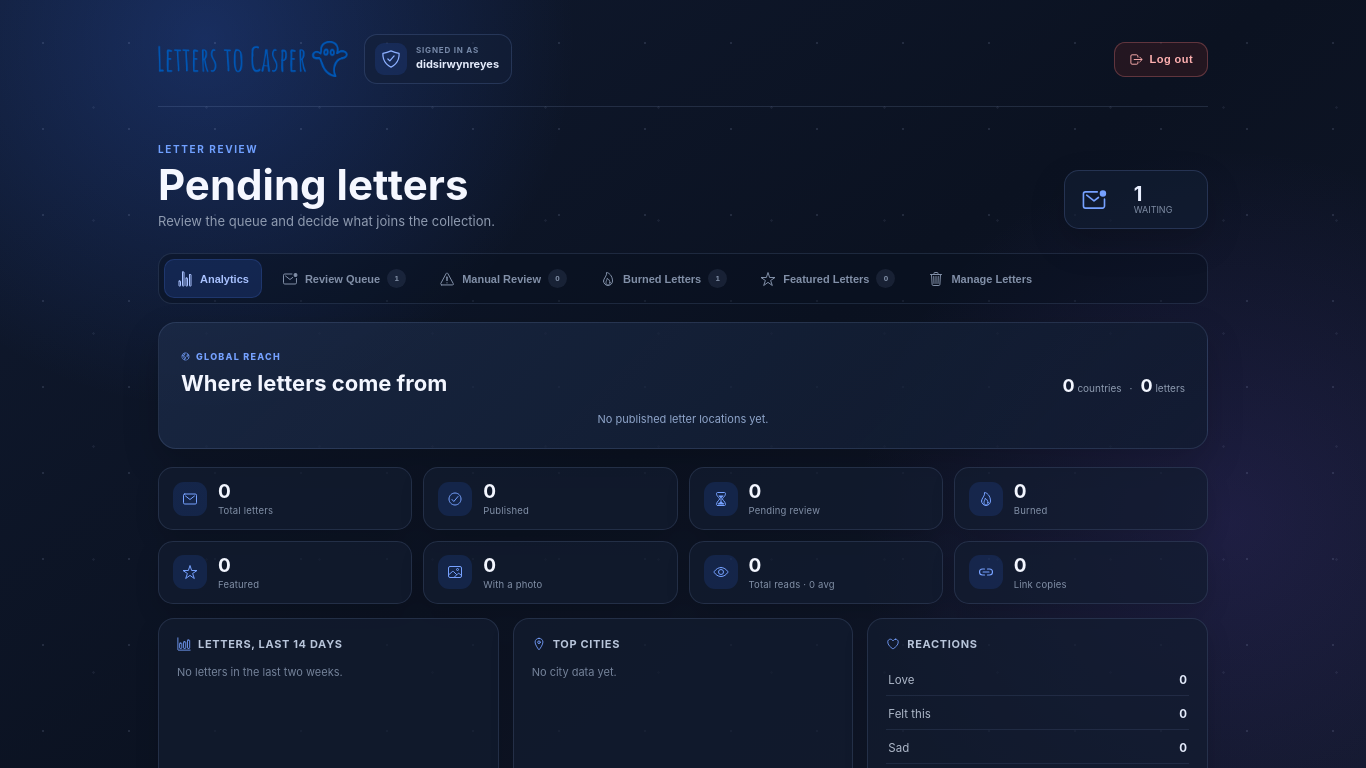
separates burned letters from review and deletes through the existing authenticated endpoint
Click the button "Review Queue 1" at (344, 279), box [269,259,419,298]
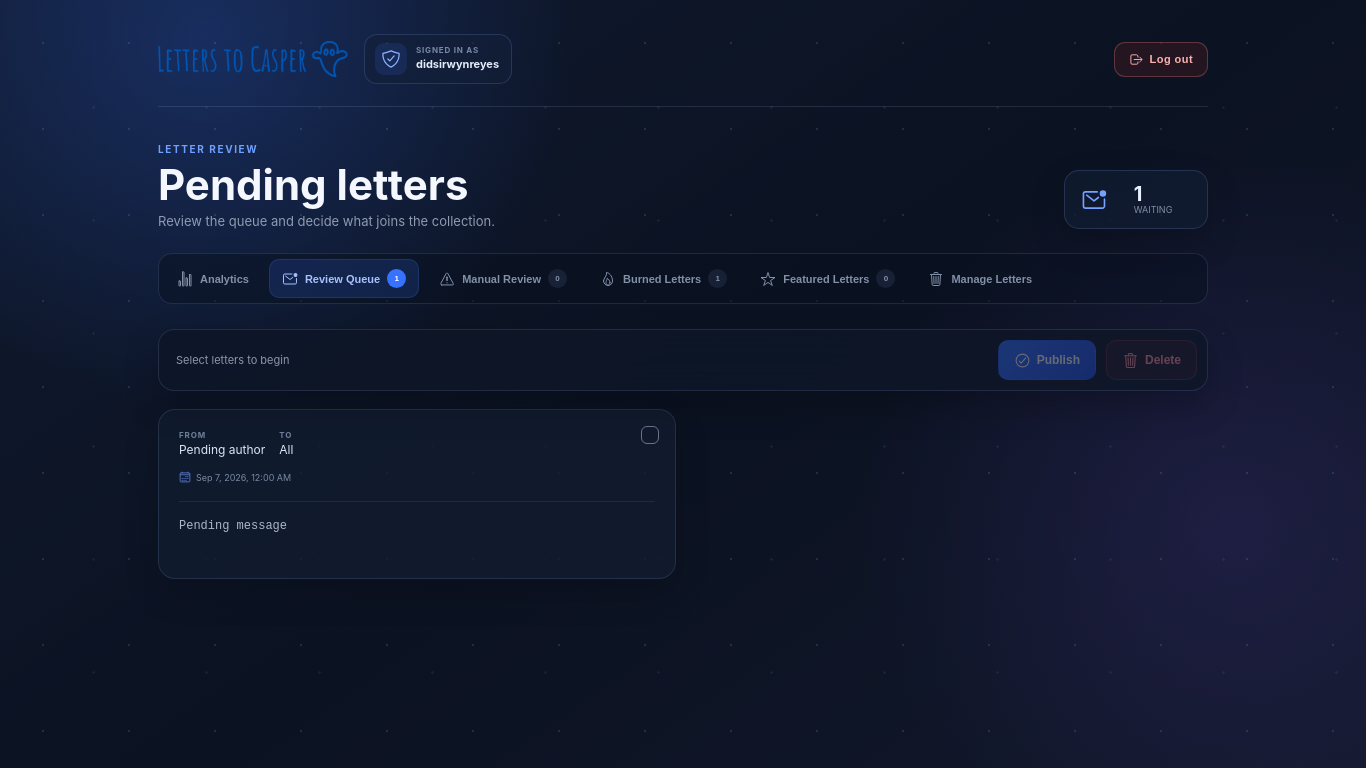
Expected: the text "Burned message" is not shown
Expected: the text "Pending message" is shown, [179,501,655,537]
Click the button "Burned Letters 1" at (664, 279), box [587,259,740,298]
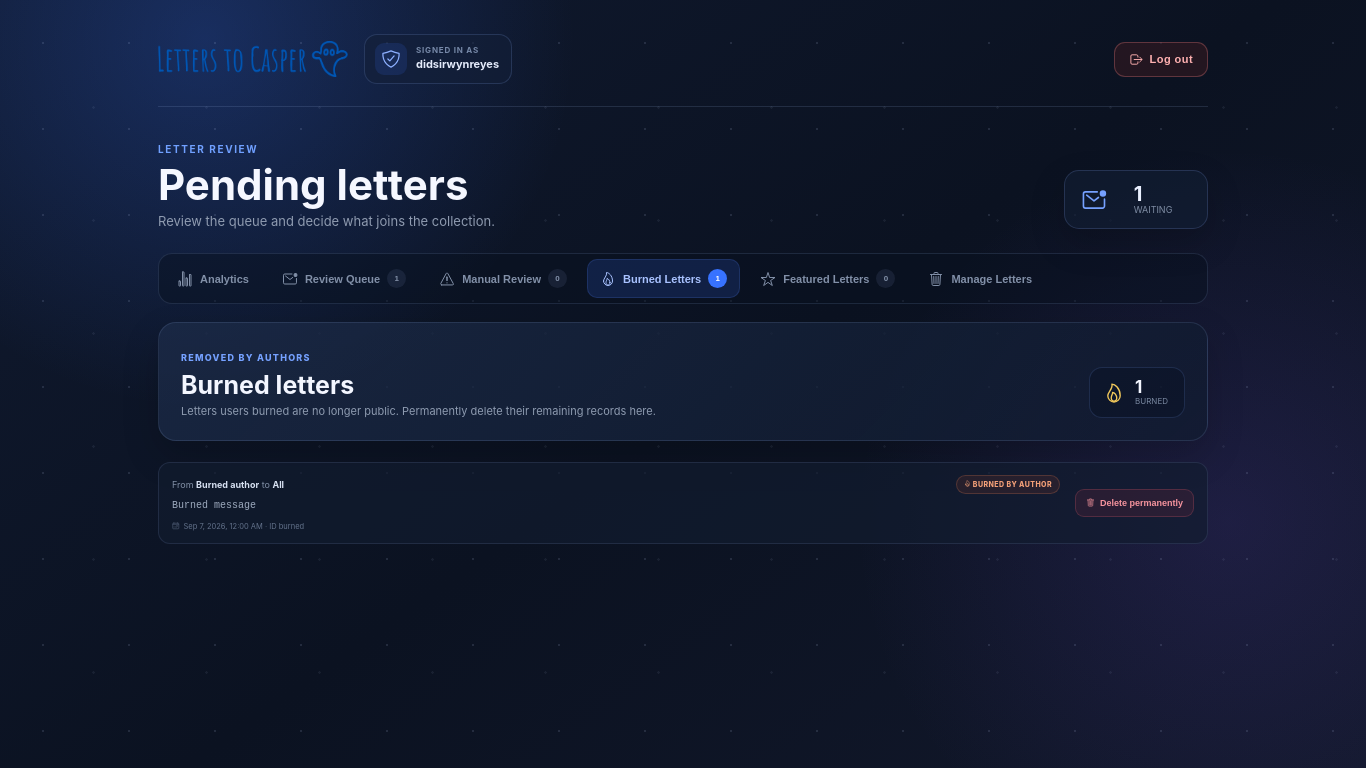
Expected: the text "Burned message" is shown, [172,500,256,511]
Expected: the button "Publish" is gone
Click the button "Delete permanently" at (1134, 503), box [1075,489,1194,517]
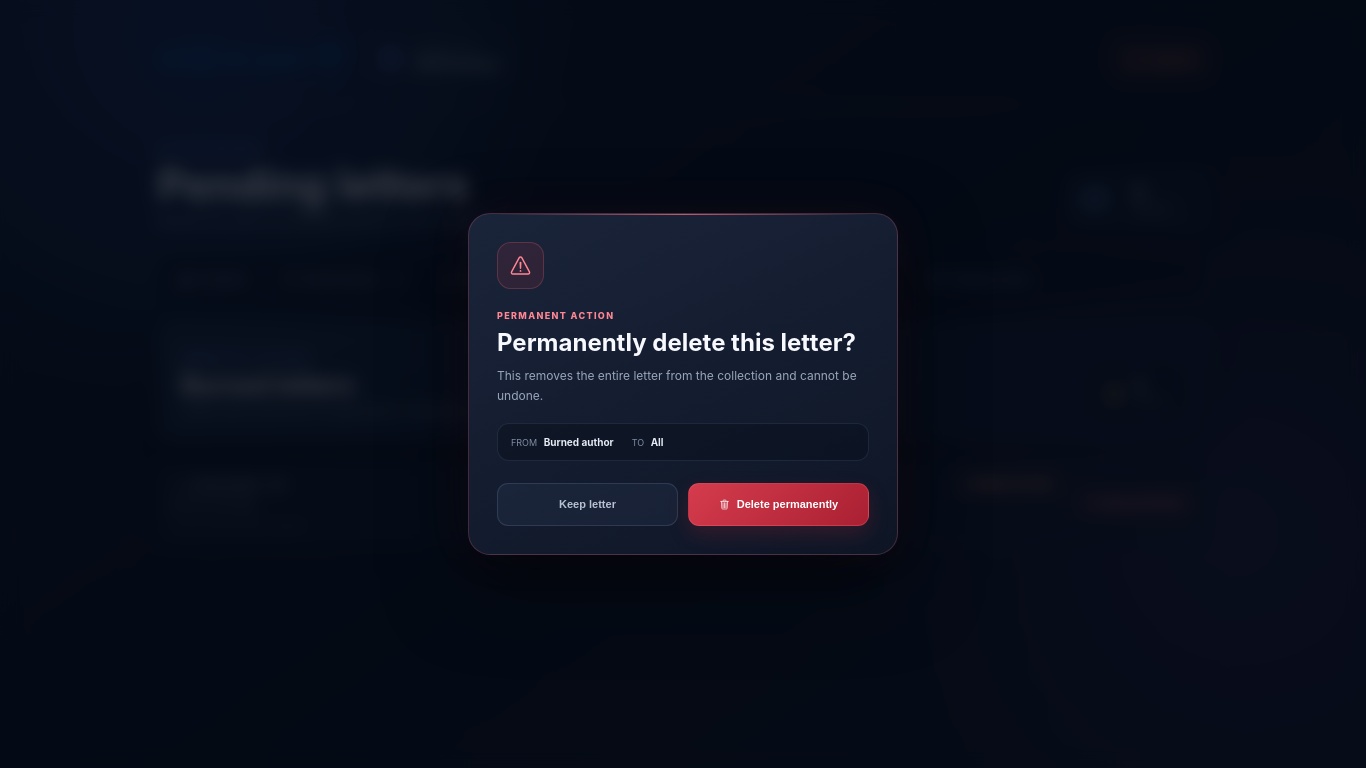
Click the button "Delete permanently" at (778, 504), box [688,483,869,526]
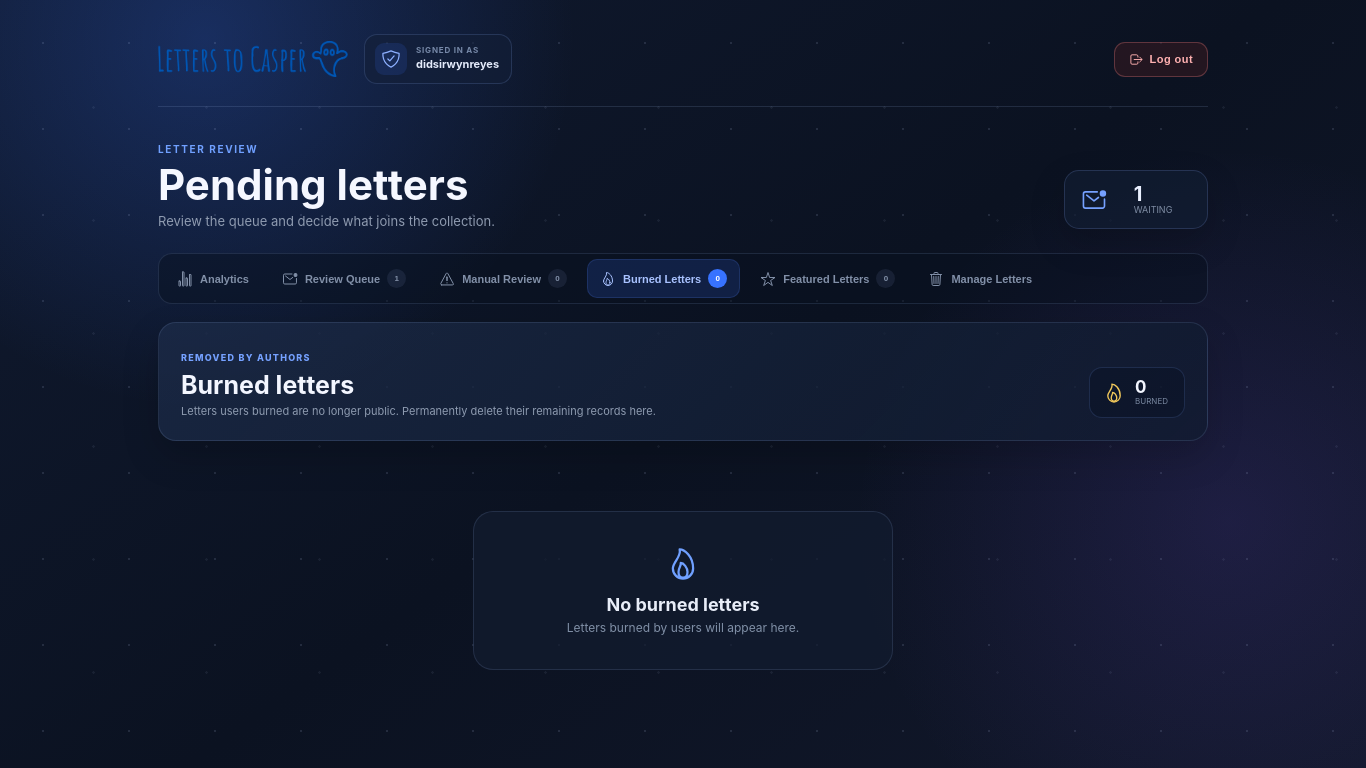
Expected: the text "No burned letters" is shown, [606,594,760,615]
Click the button "Review Queue 1" at (344, 279), box [269,259,419,298]
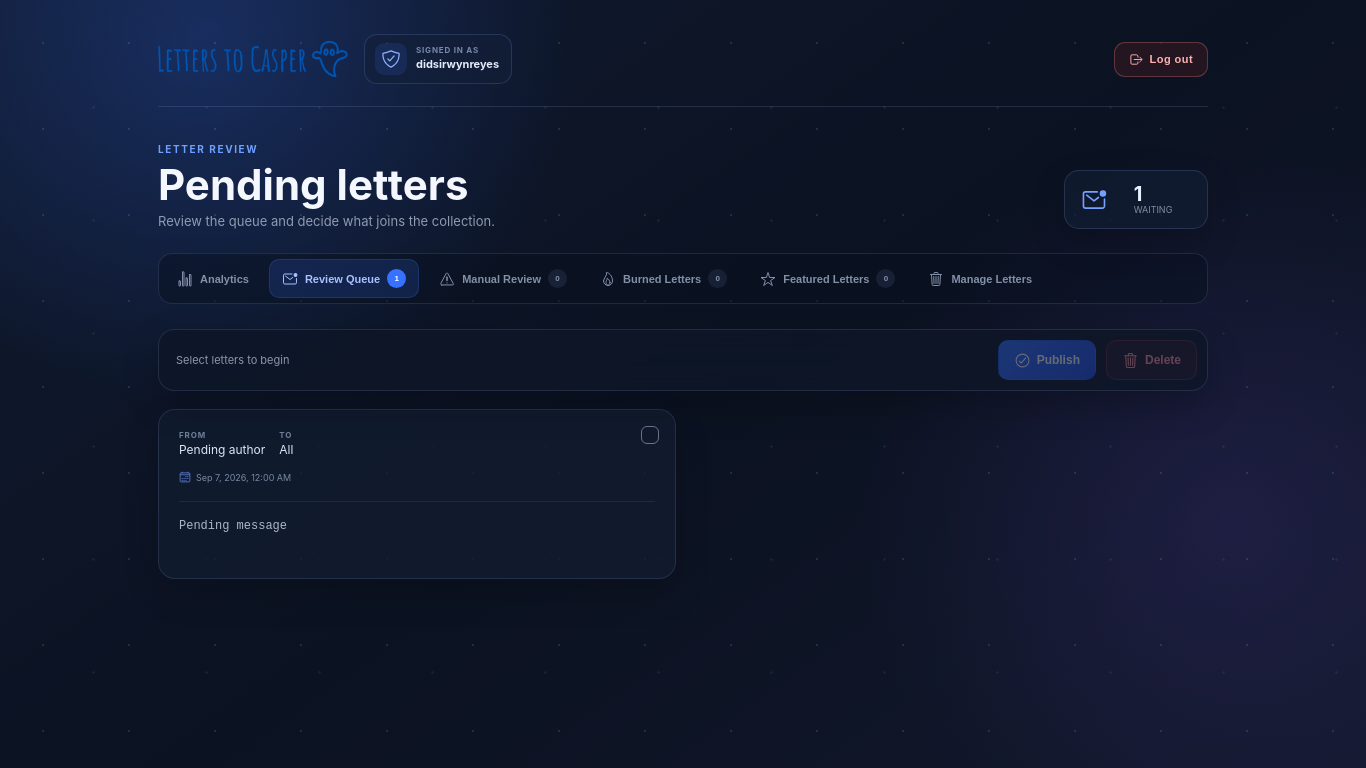
Expected: the text "Pending message" is shown, [179,501,655,537]
